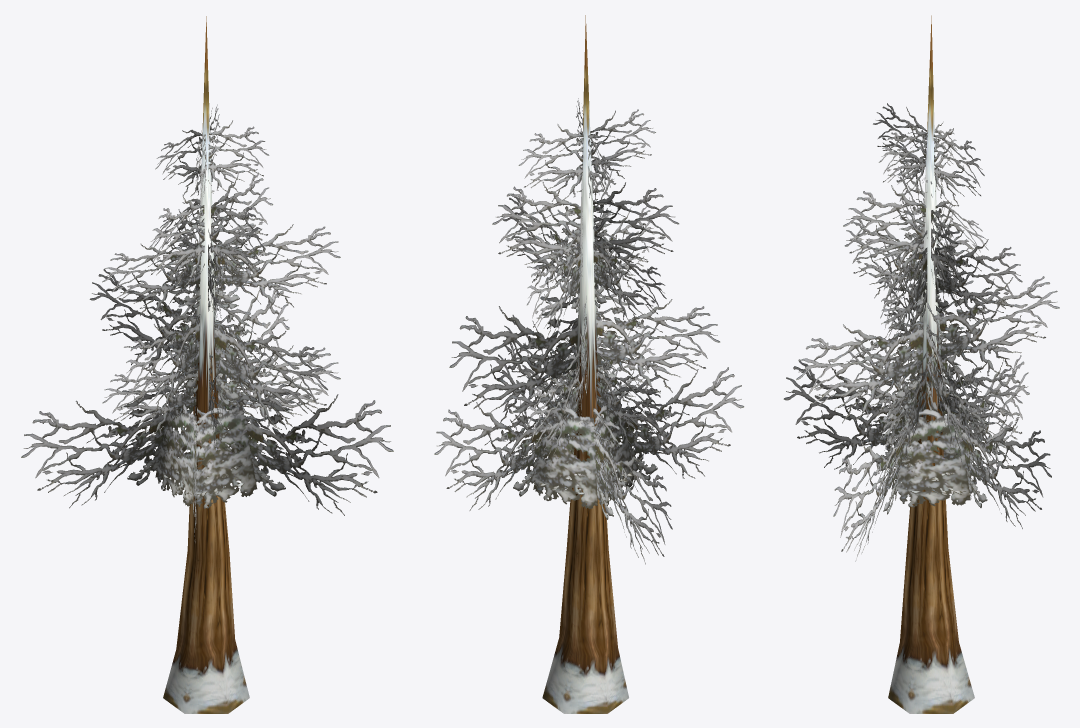
File: ironforgetree04.obj
3 views of the same model, side by side, from view 1: azimuth 30°, elevation 25°; view 2: azimuth 150°, elevation 25°; view 3: azimuth 270°, elevation 25° (orthographic).
Parts seen in each view (by area): view 1: Geoset1, Geoset0; view 2: Geoset1, Geoset0; view 3: Geoset1, Geoset0.
Part boxes in pixels (box(x1,y1,x2,y2)): Geoset1: box(21, 104, 393, 542); Geoset0: box(163, 16, 249, 713); Geoset1: box(434, 98, 744, 564); Geoset0: box(542, 15, 628, 713); Geoset1: box(783, 103, 1059, 561); Geoset0: box(888, 15, 974, 713).
Bounding box in the file's own units: 22.1 × 50.76 × 19.33.
2 materials, 2 textured.
